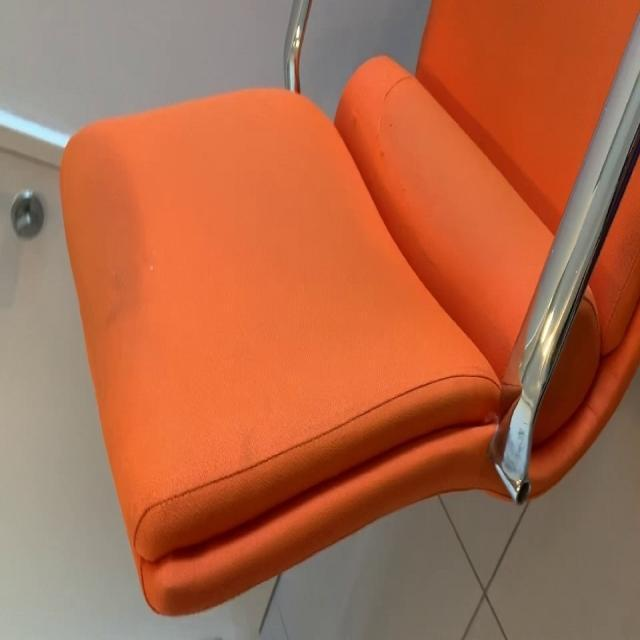chair: (54, 3, 640, 640)
